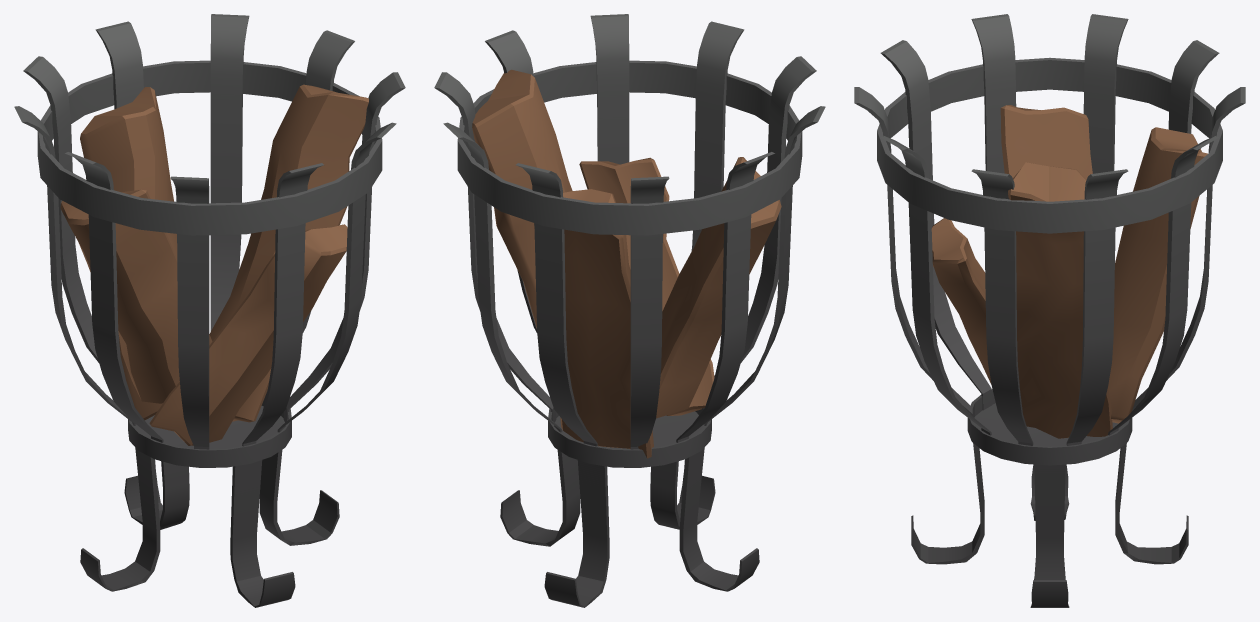
Rendered from Brazier_1.fbx.
3 renders of one model, left to right at view 1: azimuth 30°, elevation 25°; view 2: azimuth 150°, elevation 25°; view 3: azimuth 270°, elevation 25°, orthographic.
Visible parts, largest first — view 1: Brazier_1; view 2: Brazier_1; view 3: Brazier_1.
Part boxes in pixels (x1,y1,x2,y2): Brazier_1: (14,14,405,607); Brazier_1: (434,14,825,607); Brazier_1: (854,14,1245,607).
Bounding box in the file's own units: 60.48 × 80.31 × 61.65.
